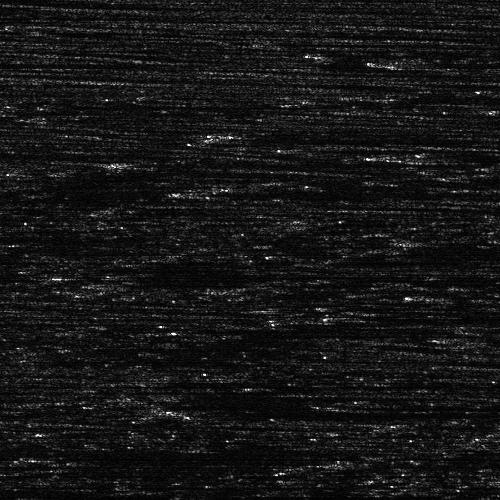rock: (114, 405, 281, 420), (325, 56, 460, 67), (357, 148, 482, 159), (415, 330, 500, 345), (166, 186, 229, 197), (432, 173, 500, 182), (231, 128, 272, 137)
shadow: (198, 405, 457, 420), (198, 186, 441, 197), (252, 128, 496, 137), (0, 55, 96, 68), (393, 56, 500, 67), (0, 149, 148, 156), (420, 148, 500, 159), (468, 330, 500, 345), (479, 173, 500, 182), (0, 319, 27, 326)
